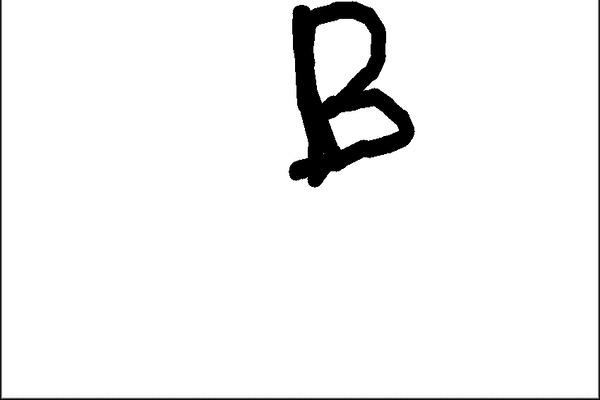B: (275, 1, 419, 191)
